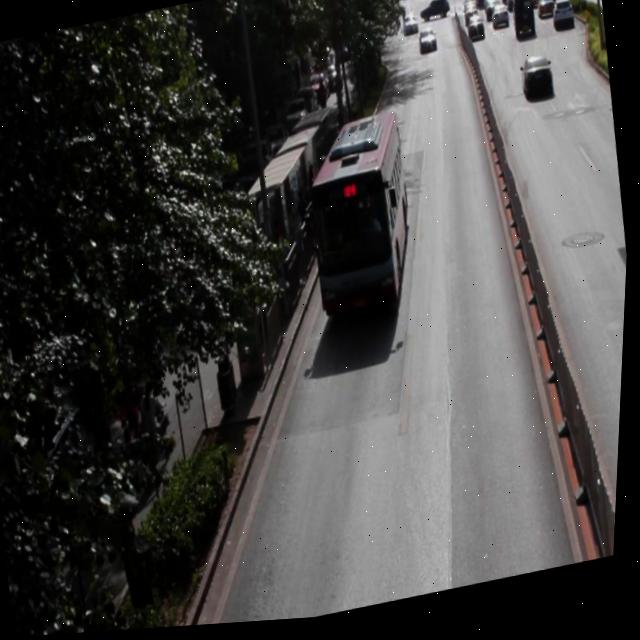car: (518, 58, 555, 102)
van: (301, 112, 423, 320)
